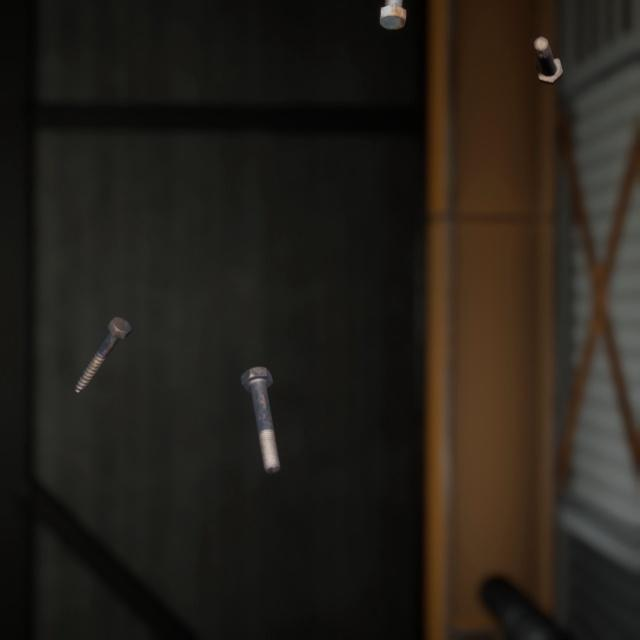bolt: (70, 293, 136, 378), (236, 342, 284, 457), (529, 22, 567, 79), (374, 0, 411, 32)
